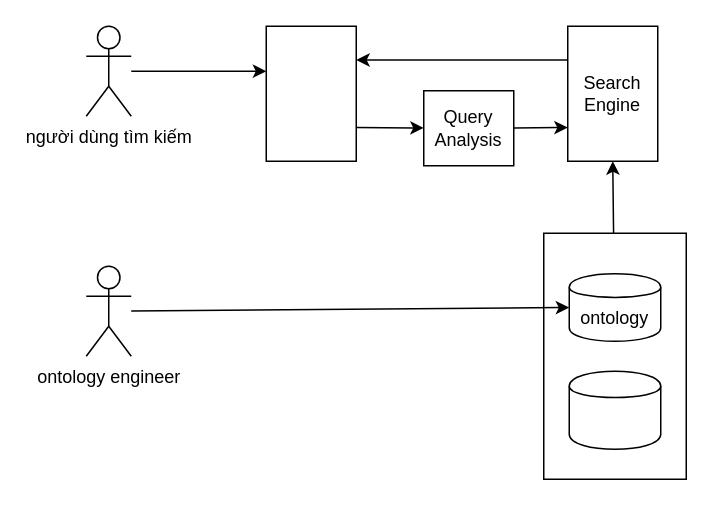
Image size: 713x506. Some labels were removed from this diagram. The shapes that lost their labels are listed below. From the top down, each one's centre as x and y in pixels, then its label:
point (310, 93): giao diện
point (614, 409): csdl sách
